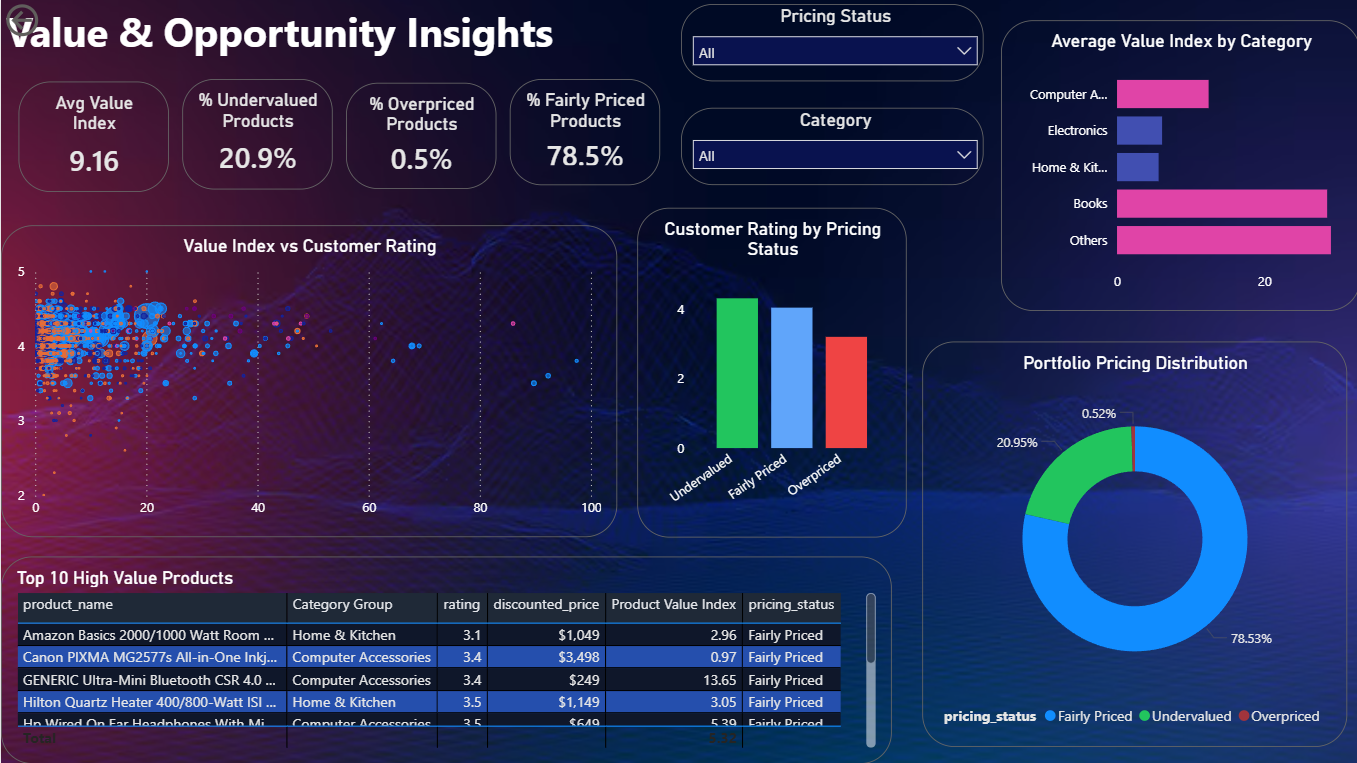

This screenshot's page, from the dashboard's own definition file:
{"tool":"powerbi","page":{"name":"Page 3","canvas":[1280,720],"ordinal":2},"visuals":[{"type":"textbox","box":[0,0,550,87.5],"z":0},{"type":"donutChart","title":"Portfolio Pricing Distribution","fields":{"Category":["amazon_final_eda.pricing_status"],"Y":["Count(amazon_final_eda.product_id)"]},"box":[867.5,322.5,400,381.2],"z":1000},{"type":"clusteredBarChart","title":"Average Value Index by Category","fields":{"Category":["amazon_final_eda.Category Group"],"Y":["amazon_final_eda.Product Value Index"]},"box":[941.2,20,338.8,273.8],"z":2000},{"type":"scatterChart","title":"Value Index vs Customer Rating","fields":{"Y":["Avg(amazon_final_eda.rating)"],"Category":["amazon_final_eda.product_name"],"Series":["amazon_final_eda.Category Group"],"Size":["Sum(amazon_final_eda.rating_count)"],"X":["Avg(amazon_final_eda.Value Index)"]},"box":[0,212.5,580,293.8],"z":3000},{"type":"tableEx","title":"Top 10 High Value Products","fields":{"Values":["amazon_final_eda.product_name","amazon_final_eda.Category Group","amazon_final_eda.rating","amazon_final_eda.discounted_price","amazon_final_eda.Product Value Index","amazon_final_eda.pricing_status"]},"box":[0,525,838.8,195],"z":4000},{"type":"actionButton","box":[0,0,100,40],"z":5000},{"type":"slicer","title":"Category","fields":{"Values":["amazon_final_eda.Category Group"]},"box":[640,102.5,285,72.5],"z":6000},{"type":"slicer","title":"Pricing Status","fields":{"Values":["amazon_final_eda.pricing_status"]},"box":[640,5,285,72.5],"z":7000},{"type":"clusteredColumnChart","title":"Customer Rating by Pricing Status","fields":{"Category":["amazon_final_eda.pricing_status"],"Y":["amazon_final_eda.Avg Product Rating"]},"box":[598.8,196.2,253.8,310],"z":8000},{"type":"cardVisual","title":"Avg Value Index","fields":{"Data":["Avg(amazon_final_eda.Value Index)"]},"box":[16.2,77.5,141.2,103.8],"z":9000},{"type":"cardVisual","title":"% Undervalued Products","fields":{"Data":["amazon_final_eda.% Undervalued"]},"box":[170,75,141.2,103.8],"z":10000},{"type":"cardVisual","title":"% Overpriced Products","fields":{"Data":["amazon_final_eda.% Overpriced"]},"box":[325,78.8,141.2,100],"z":11000},{"type":"cardVisual","title":"% Fairly Priced Products","fields":{"Data":["amazon_final_eda.% Fairly Priced"]},"box":[478.8,75,141.2,100],"z":12000}]}

Visuals, with their boxes in screenshot pixels (x1, y1, x2, y2), scaled from the page's 1280x720 canvas onto the 1357x763 screenshot:
textbox: [0,0,583,93]
"Portfolio Pricing Distribution" donutChart: [920,342,1344,746]
"Average Value Index by Category" clusteredBarChart: [998,21,1356,311]
"Value Index vs Customer Rating" scatterChart: [0,225,615,537]
"Top 10 High Value Products" tableEx: [0,556,889,762]
actionButton: [0,0,106,42]
"Category" slicer: [678,109,981,185]
"Pricing Status" slicer: [678,5,981,82]
"Customer Rating by Pricing Status" clusteredColumnChart: [635,208,904,536]
"Avg Value Index" cardVisual: [17,82,167,192]
"% Undervalued Products" cardVisual: [180,79,330,189]
"% Overpriced Products" cardVisual: [345,84,494,189]
"% Fairly Priced Products" cardVisual: [508,79,657,185]
